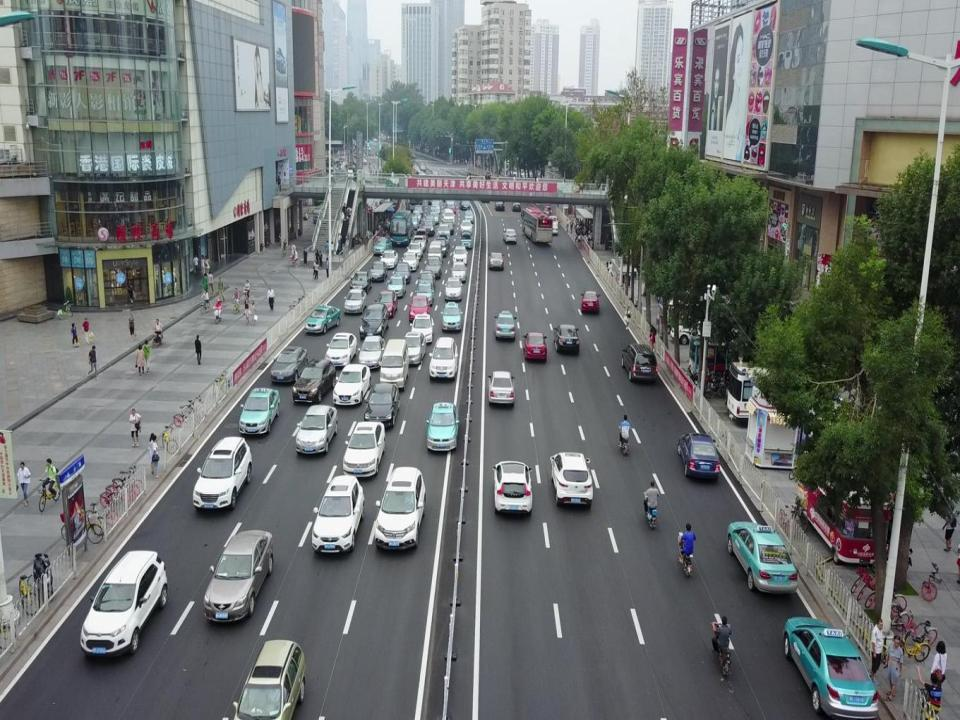bus: (522, 206, 552, 245), (391, 210, 412, 246)
car: (783, 615, 880, 719), (80, 550, 168, 656), (203, 530, 275, 627), (232, 639, 306, 720), (726, 519, 799, 593), (192, 438, 253, 512), (374, 466, 426, 551), (312, 474, 366, 554), (549, 450, 594, 508), (344, 419, 385, 478), (491, 459, 534, 514), (297, 404, 338, 457), (239, 388, 281, 437), (294, 356, 335, 404), (678, 432, 719, 479), (425, 401, 458, 452), (333, 363, 371, 405), (364, 383, 400, 426), (271, 346, 309, 382), (428, 337, 459, 378), (670, 318, 720, 343), (304, 303, 342, 333), (360, 303, 390, 338), (486, 371, 516, 405), (327, 333, 356, 364), (359, 336, 386, 369), (400, 332, 426, 365), (522, 332, 548, 362), (553, 324, 580, 351), (409, 314, 435, 342), (493, 310, 517, 340), (441, 300, 463, 332), (343, 290, 368, 313), (407, 295, 430, 319), (375, 292, 397, 316), (415, 280, 434, 306), (387, 272, 406, 297), (350, 271, 372, 292), (580, 289, 600, 311), (444, 277, 463, 300), (425, 255, 442, 277), (373, 236, 392, 255), (368, 262, 388, 280), (395, 263, 412, 283), (488, 251, 505, 270), (452, 245, 468, 265), (418, 271, 436, 288), (402, 253, 419, 271), (380, 250, 399, 266), (451, 262, 466, 282), (407, 243, 422, 261), (460, 232, 473, 252), (422, 219, 436, 237), (412, 234, 425, 253), (434, 237, 446, 256), (441, 218, 455, 234), (459, 219, 473, 234), (502, 228, 516, 243), (436, 232, 449, 248), (438, 224, 450, 240), (415, 228, 427, 244), (407, 216, 419, 231), (424, 214, 435, 230), (464, 209, 474, 224), (460, 198, 472, 210), (430, 202, 442, 214), (411, 204, 423, 216), (493, 199, 505, 211), (446, 202, 456, 216), (548, 213, 558, 226), (428, 212, 438, 224), (511, 198, 521, 210), (542, 205, 552, 216), (412, 210, 421, 222), (430, 207, 439, 218), (550, 223, 558, 235), (334, 159, 343, 169), (443, 207, 451, 218), (419, 164, 426, 171)
van: (619, 343, 658, 382), (380, 338, 409, 390), (659, 295, 701, 326), (429, 241, 442, 263), (312, 204, 326, 223), (443, 210, 455, 225)
